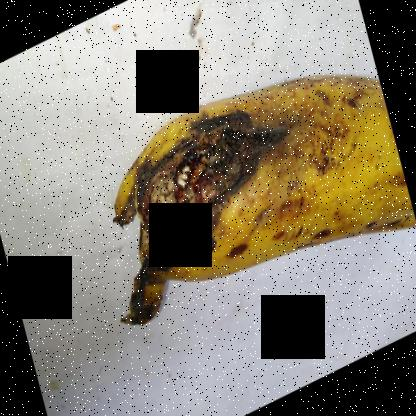rotten: (115, 100, 296, 350)
